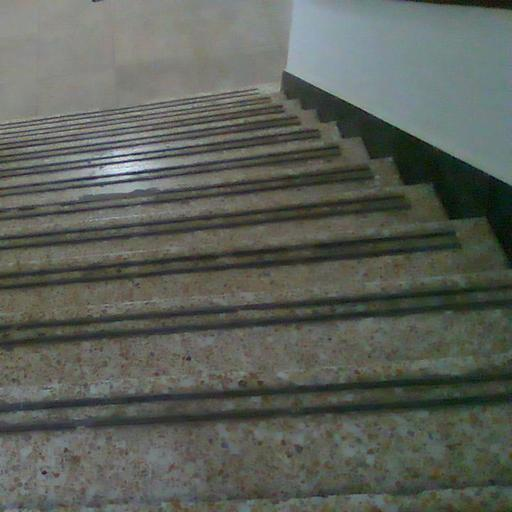stairs: (0, 87, 511, 511)
